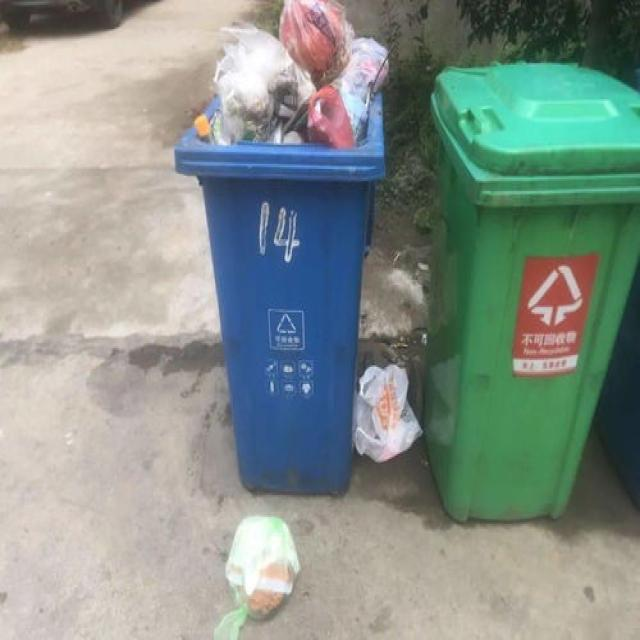garbage: (208, 512, 298, 638), (353, 362, 421, 461)
garbage_bin: (430, 60, 639, 522)
overflow: (172, 0, 382, 497)
